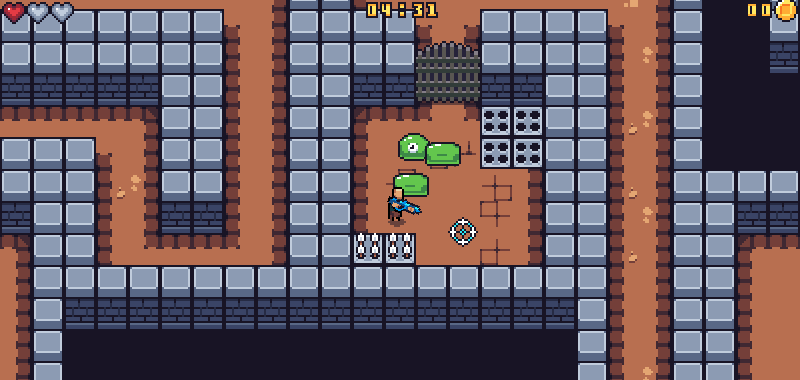enemy_slug_big: (425, 142, 462, 167), (398, 133, 429, 160), (392, 174, 429, 195)
trap_door: (414, 41, 484, 102)
trap_off: (480, 106, 544, 167)
trap_on: (353, 232, 415, 266)
